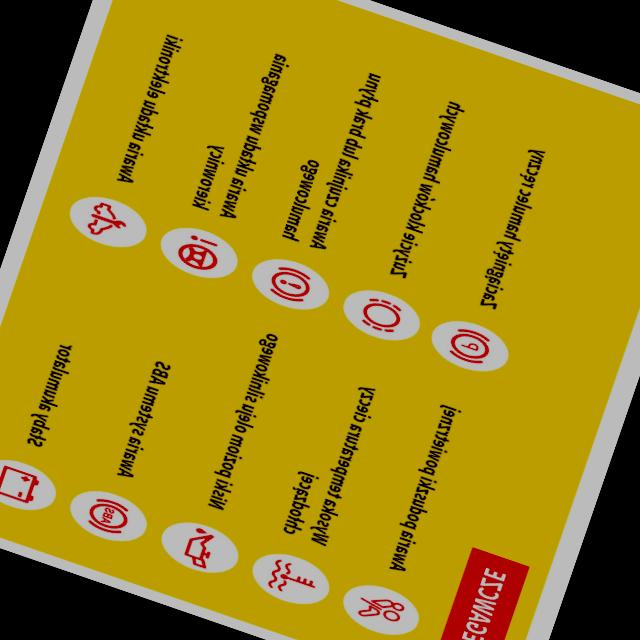kontrolka: (258, 550, 328, 604), (167, 224, 228, 278), (438, 317, 498, 370), (354, 290, 415, 342), (261, 259, 317, 307), (80, 492, 134, 540), (173, 522, 224, 572), (0, 457, 47, 509), (354, 588, 406, 628)
